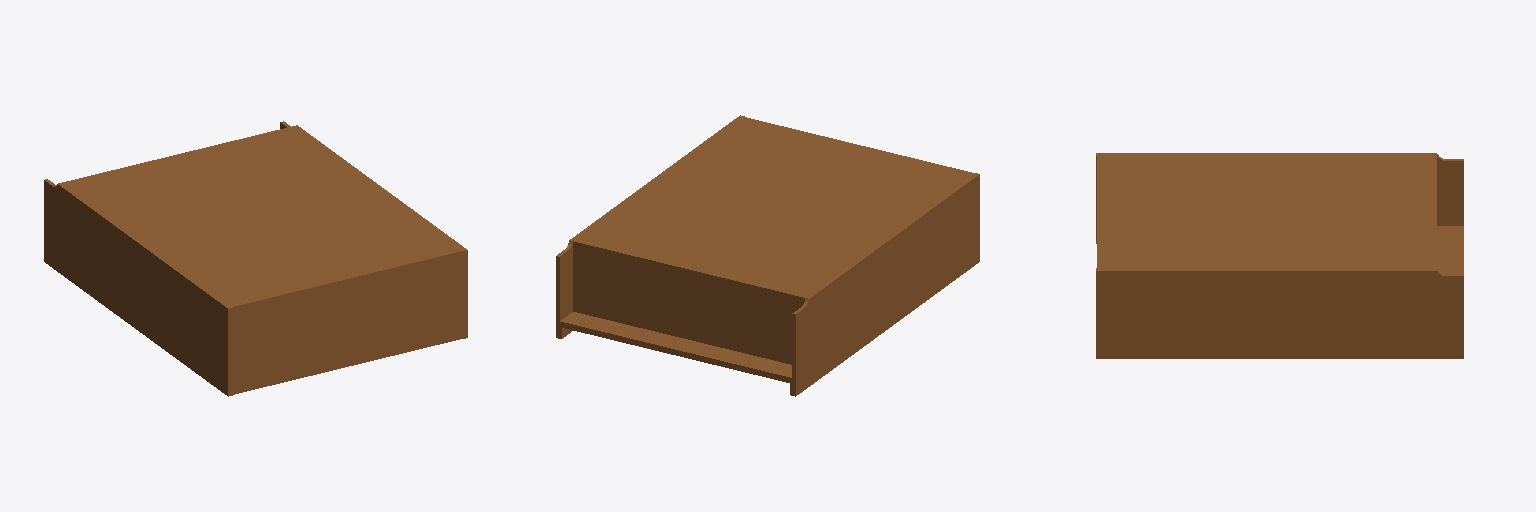
File: cat10_bookshelf.obj
3 renders of one model, left to right at view 1: azimuth 30°, elevation 25°; view 2: azimuth 150°, elevation 25°; view 3: azimuth 270°, elevation 25°, orthographic.
Visible parts, largest first — view 1: small bookshelf; view 2: small bookshelf; view 3: small bookshelf.
Part boxes in pixels (x1,y1,x2,y2): small bookshelf: (44, 121, 467, 396); small bookshelf: (556, 115, 979, 396); small bookshelf: (1096, 153, 1463, 358).
Size of the model in its own units: 32 by 11.2 by 42.52.